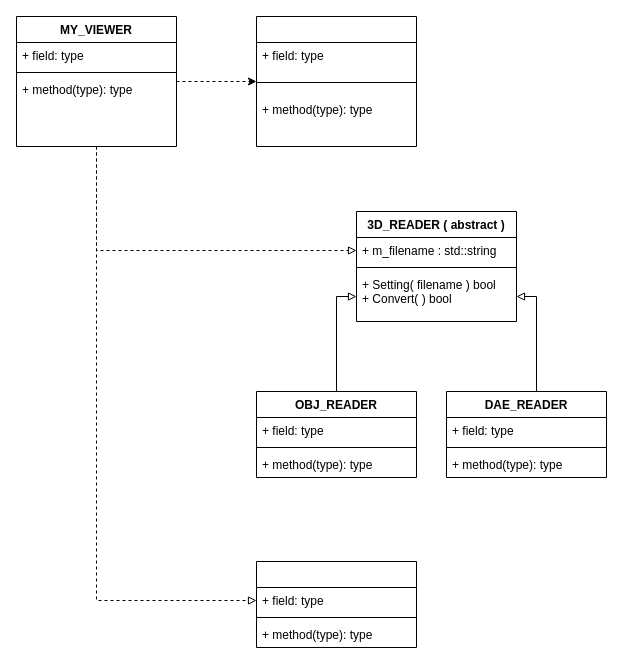
Some shapes in this 623 by 664 pixel diagram are drawn without their labels. Here are the shapes that lost their labels. From the top down, the box of each, then its label:
(256, 16, 416, 146): FILE_MANAGER
(256, 560, 416, 648): 3D_VIEWER
